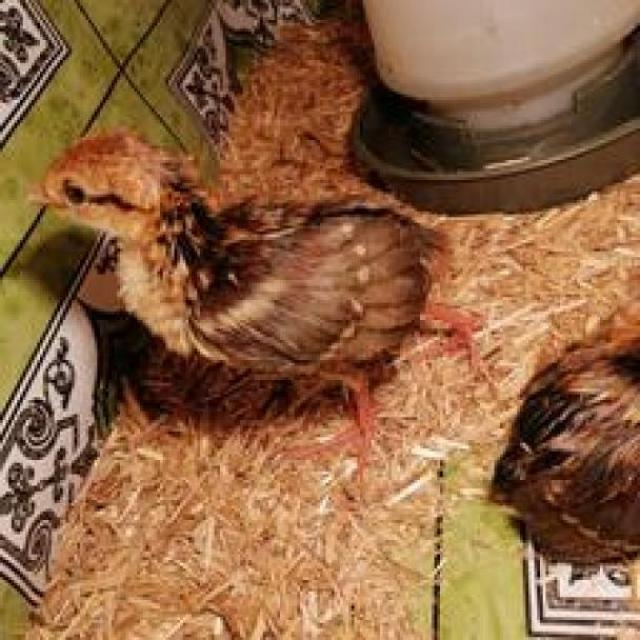Chicken: (17, 118, 506, 499)
